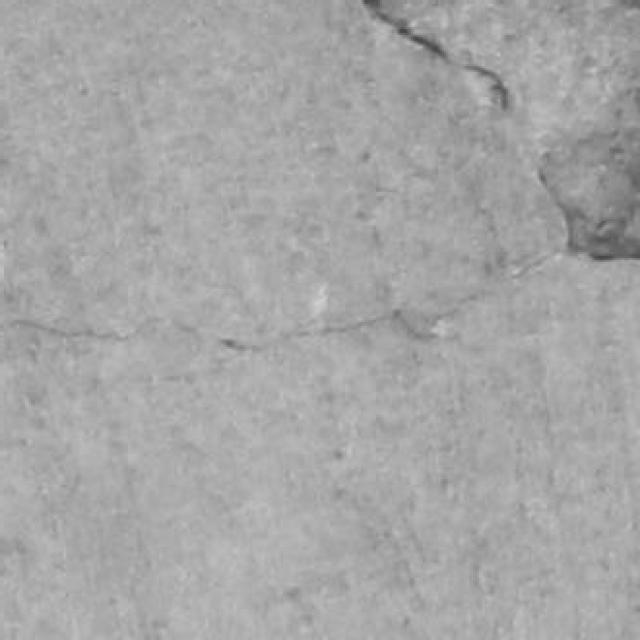crack: (219, 250, 563, 361), (362, 0, 511, 111), (541, 128, 640, 262), (537, 168, 639, 260), (362, 0, 448, 61), (1, 318, 140, 340)
